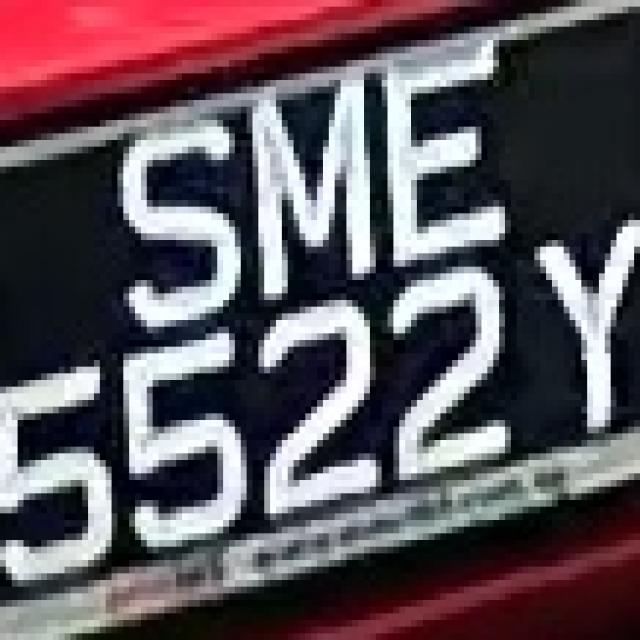2: (241, 294, 393, 534), (376, 247, 516, 500)
5: (94, 313, 252, 560), (0, 347, 129, 620)
E: (364, 33, 499, 287)
M: (217, 53, 376, 327)
S: (112, 93, 240, 327)
Y: (487, 226, 640, 426)
